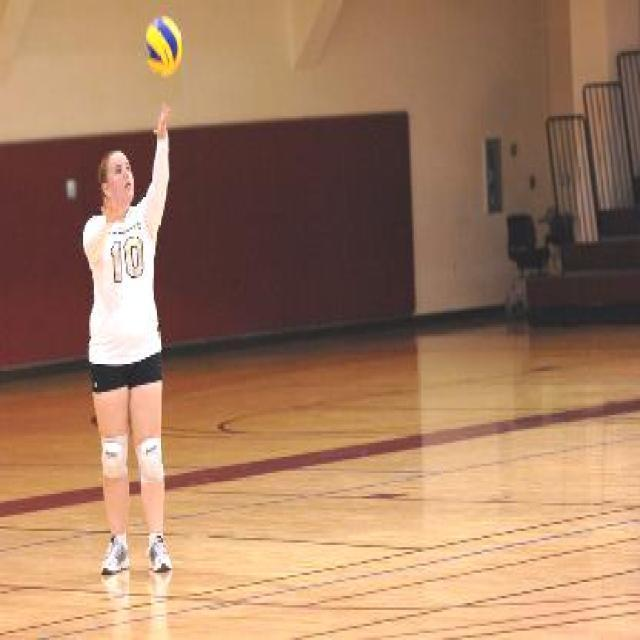volleyball: (144, 16, 182, 78)
